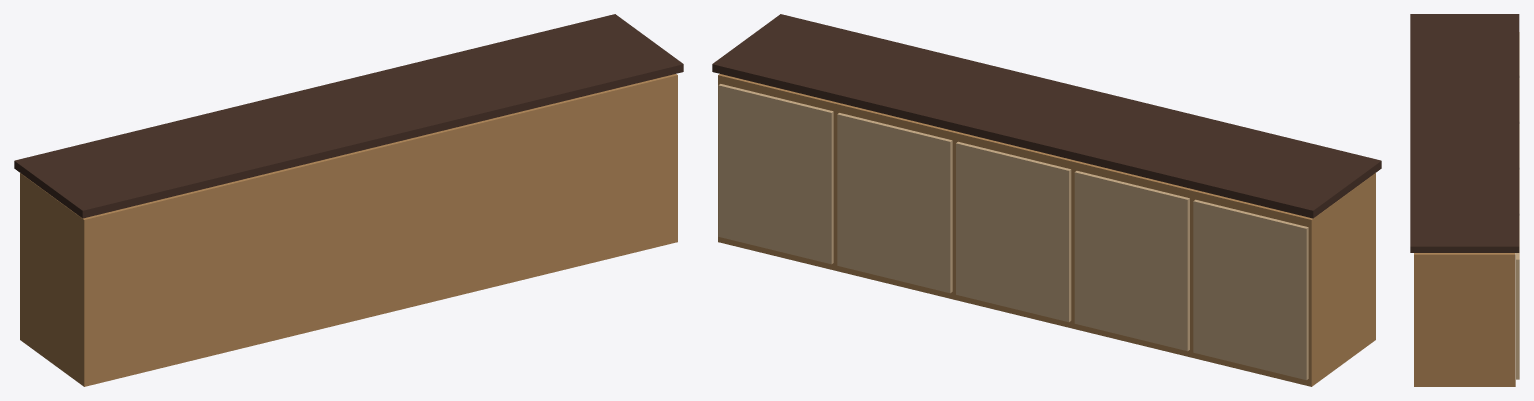
3 views of the same model, side by side, from view 1: azimuth 30°, elevation 25°; view 2: azimuth 150°, elevation 25°; view 3: azimuth 270°, elevation 25° (orthographic). The views are drawn at different scales.
Parts seen in each view (by area): view 1: mueble_coffee; view 2: mueble_coffee; view 3: mueble_coffee.
Boxes of the visible parts, bbox=[...] form: mueble_coffee: bbox=[14, 14, 683, 386]; mueble_coffee: bbox=[712, 14, 1381, 386]; mueble_coffee: bbox=[1410, 14, 1519, 386].
Bounding box in the file's own units: 3.24 × 0.642 × 0.92.
